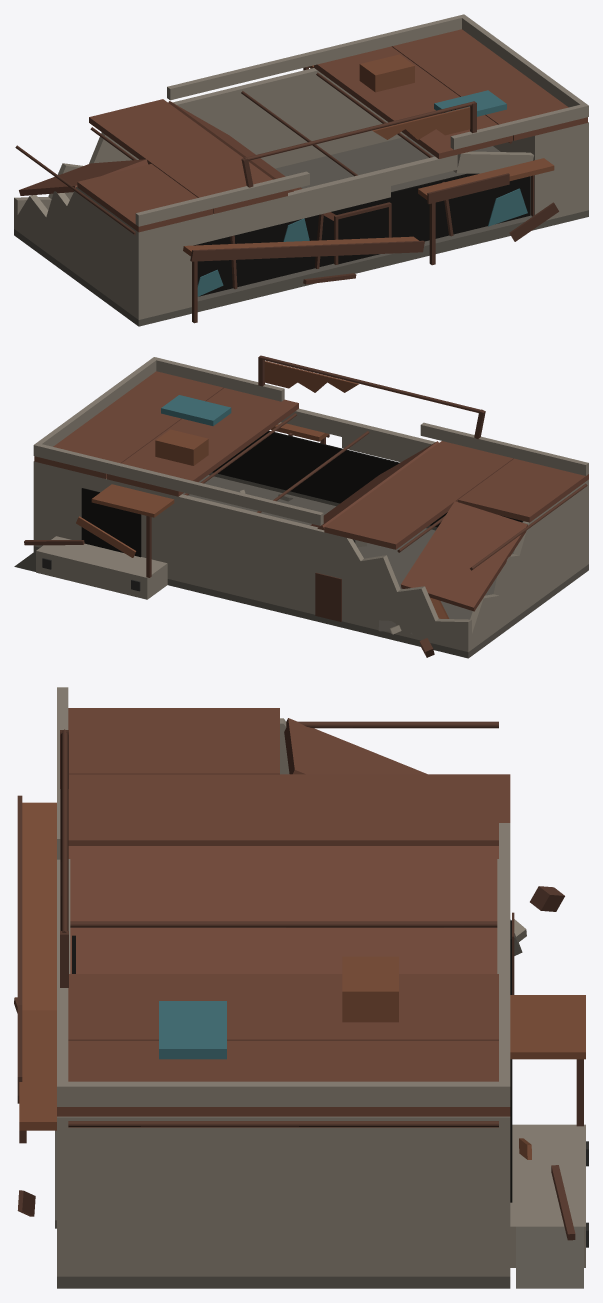
3 views of the same model, one above another, from view 1: azimuth 30°, elevation 25°; view 2: azimuth 150°, elevation 25°; view 3: azimuth 270°, elevation 25° (orthographic). The views are drawn at different scales.
Visible parts, largest first — view 1: site_supermarket_ruin; view 2: site_supermarket_ruin; view 3: site_supermarket_ruin.
Boxes of the visible parts, x1,y1,x2,y2 form: site_supermarket_ruin: [14, 14, 588, 326]; site_supermarket_ruin: [14, 355, 588, 658]; site_supermarket_ruin: [14, 687, 588, 1288].
Bounding box in the file's own units: 25.2 × 7.51 × 15.22.
